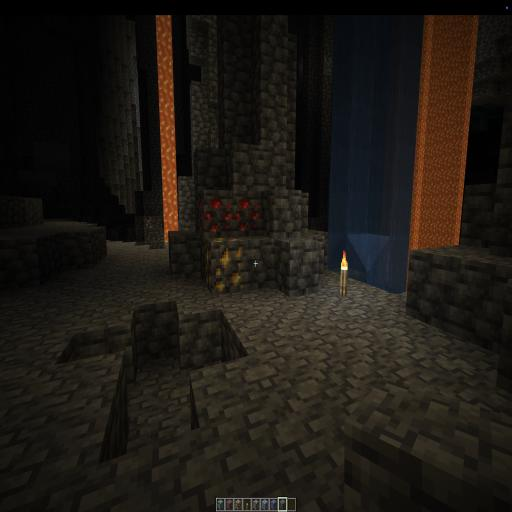gold ore: (202, 234, 246, 297)
iron ore: (142, 214, 154, 232)
redstone ore: (196, 192, 267, 234)
